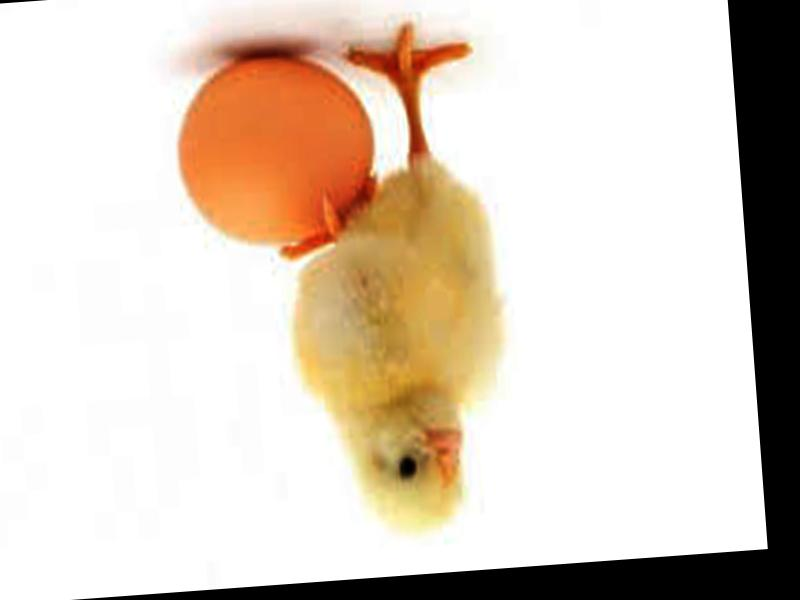Eggs: (170, 49, 384, 260)
